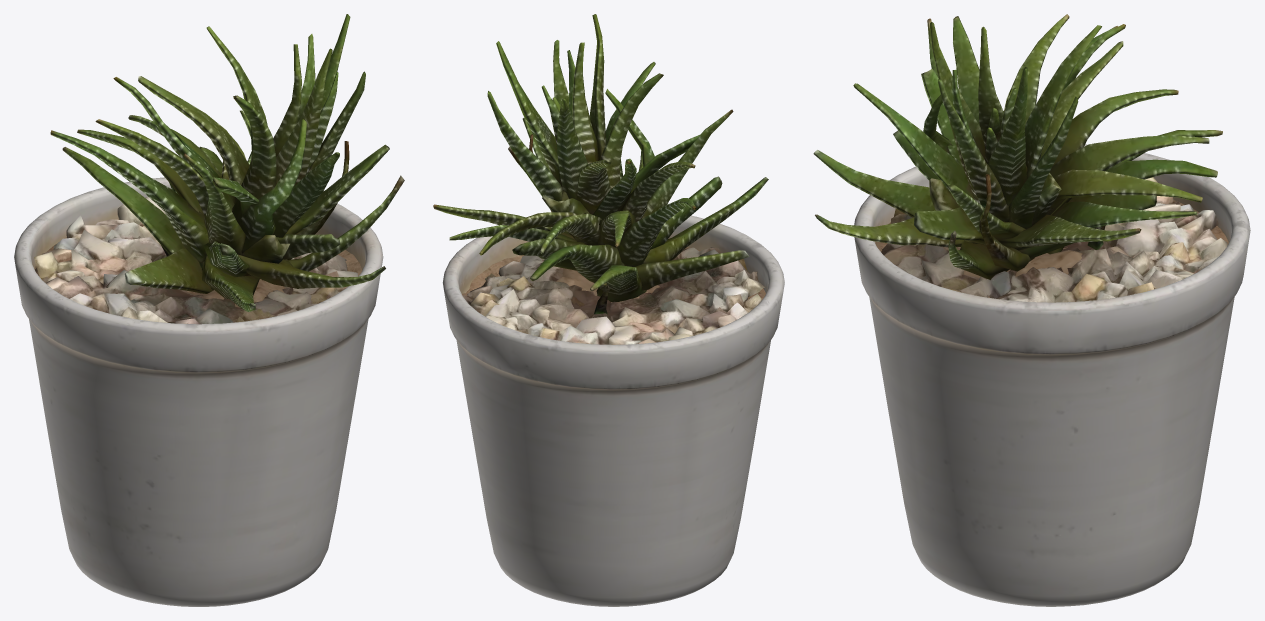
The model's file is plant.glb.
3 renders of one model, left to right at view 1: azimuth 30°, elevation 25°; view 2: azimuth 150°, elevation 25°; view 3: azimuth 270°, elevation 25°, orthographic. The views are drawn at different scales.
Visible parts, largest first — view 1: potted_plant_04_pot, potted_plant_04_plant, potted_plant_04_ground, potted_plant_04_dirt; view 2: potted_plant_04_pot, potted_plant_04_plant, potted_plant_04_ground, potted_plant_04_dirt; view 3: potted_plant_04_pot, potted_plant_04_plant, potted_plant_04_ground, potted_plant_04_dirt.
Part boxes in pixels (x1,y1,x2,y2): potted_plant_04_pot: (14, 177, 383, 606); potted_plant_04_plant: (50, 14, 404, 311); potted_plant_04_ground: (34, 197, 358, 324); potted_plant_04_dirt: (34, 219, 362, 307); potted_plant_04_pot: (442, 215, 784, 606); potted_plant_04_plant: (433, 14, 768, 314); potted_plant_04_ground: (463, 247, 765, 344); potted_plant_04_dirt: (462, 247, 765, 306); potted_plant_04_pot: (854, 144, 1250, 606); potted_plant_04_plant: (813, 14, 1222, 279); potted_plant_04_ground: (881, 177, 1227, 302); potted_plant_04_dirt: (875, 200, 1228, 297).
Bounding box in the file's own units: 0.1679 × 0.2675 × 0.1848.
Materials: 1 (1 with a texture image).
